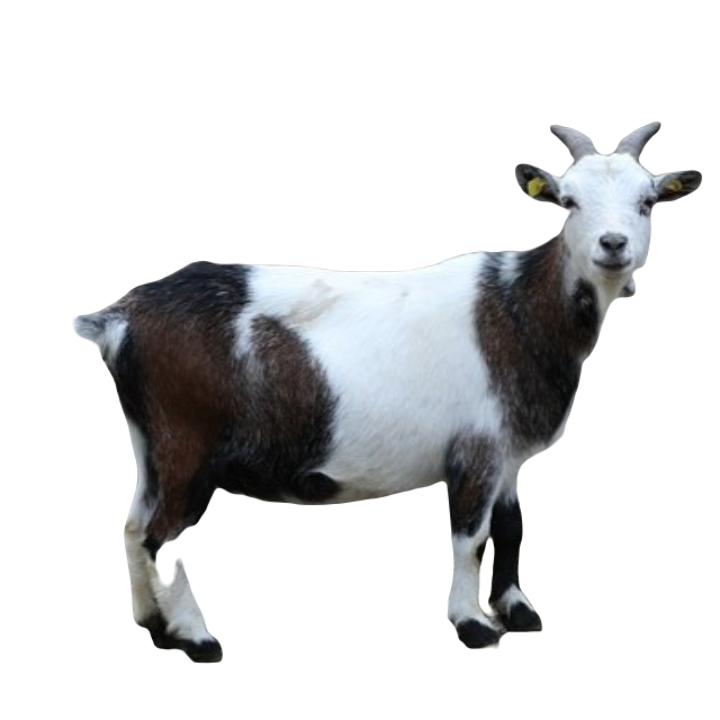Goat: (74, 122, 706, 667)
